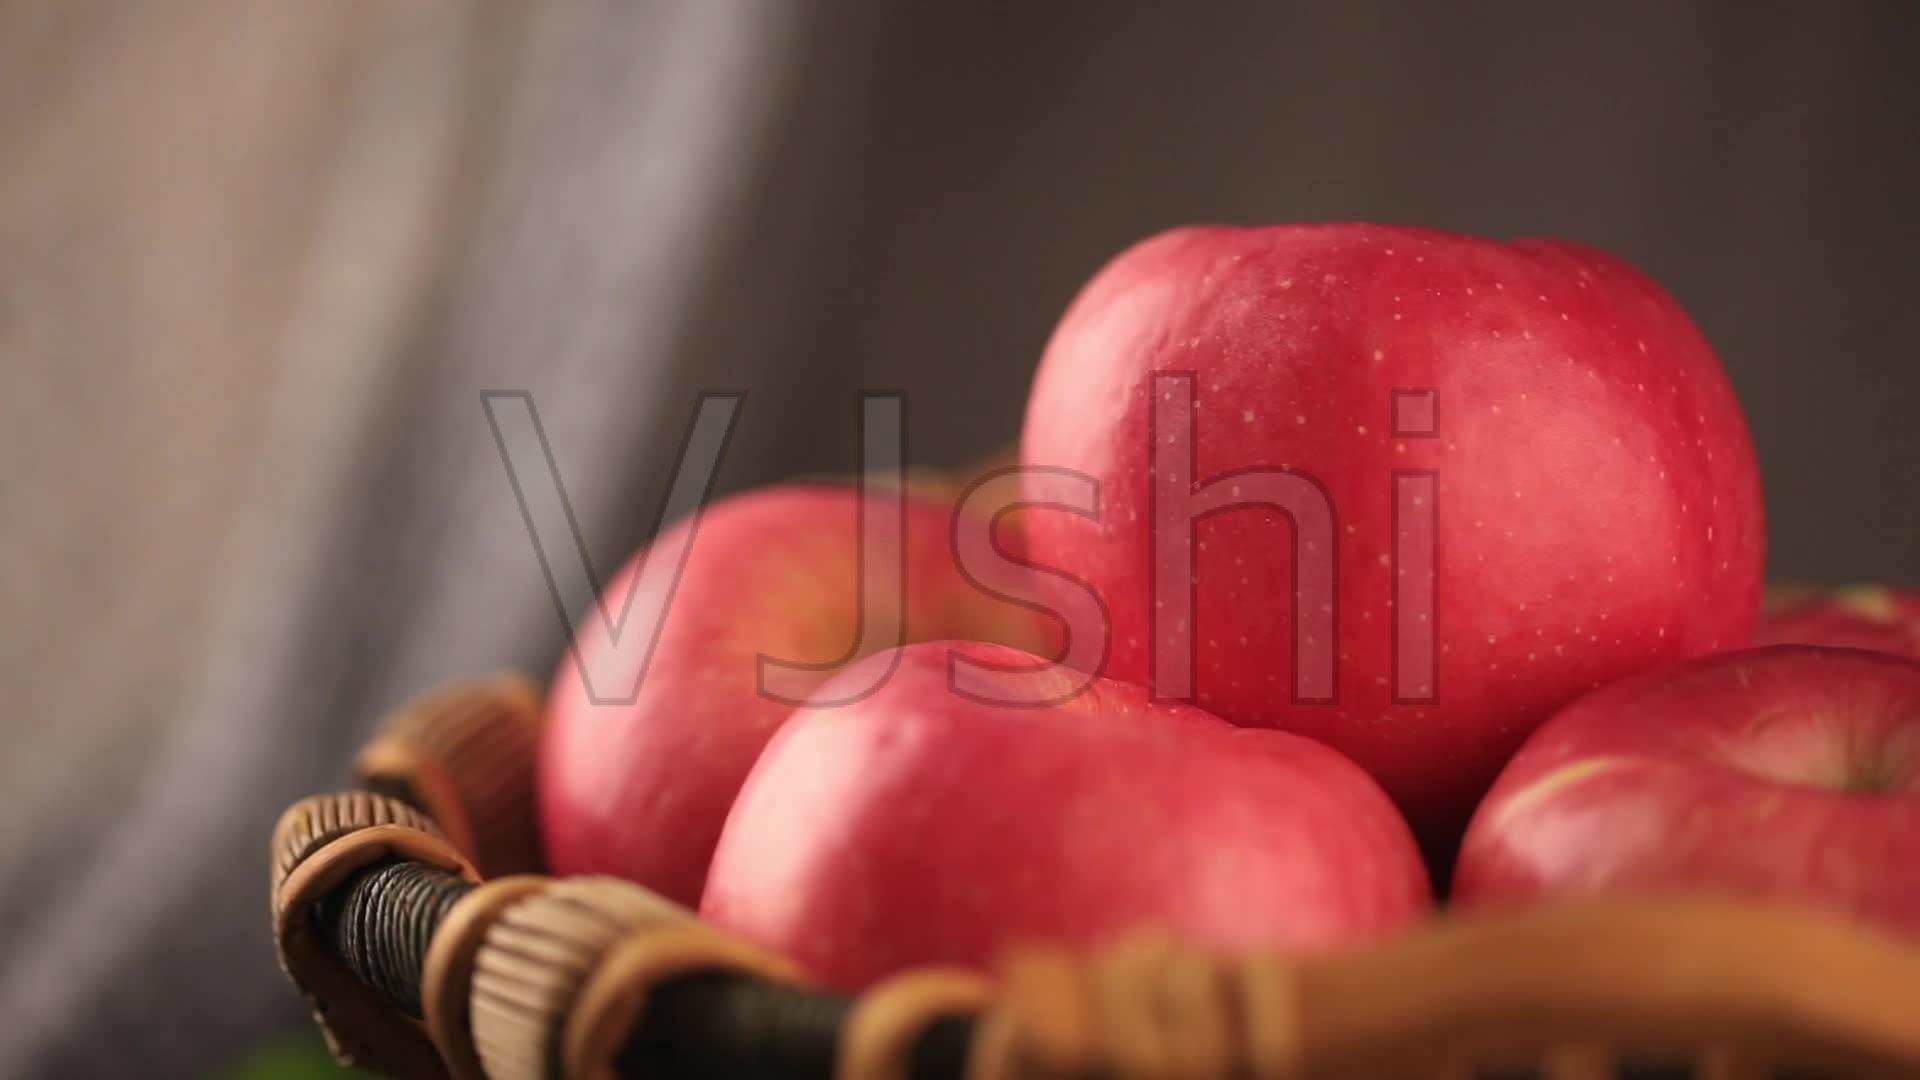apple: (988, 206, 1759, 855), (686, 608, 1436, 1033), (521, 462, 1022, 890), (1436, 640, 1920, 961)
